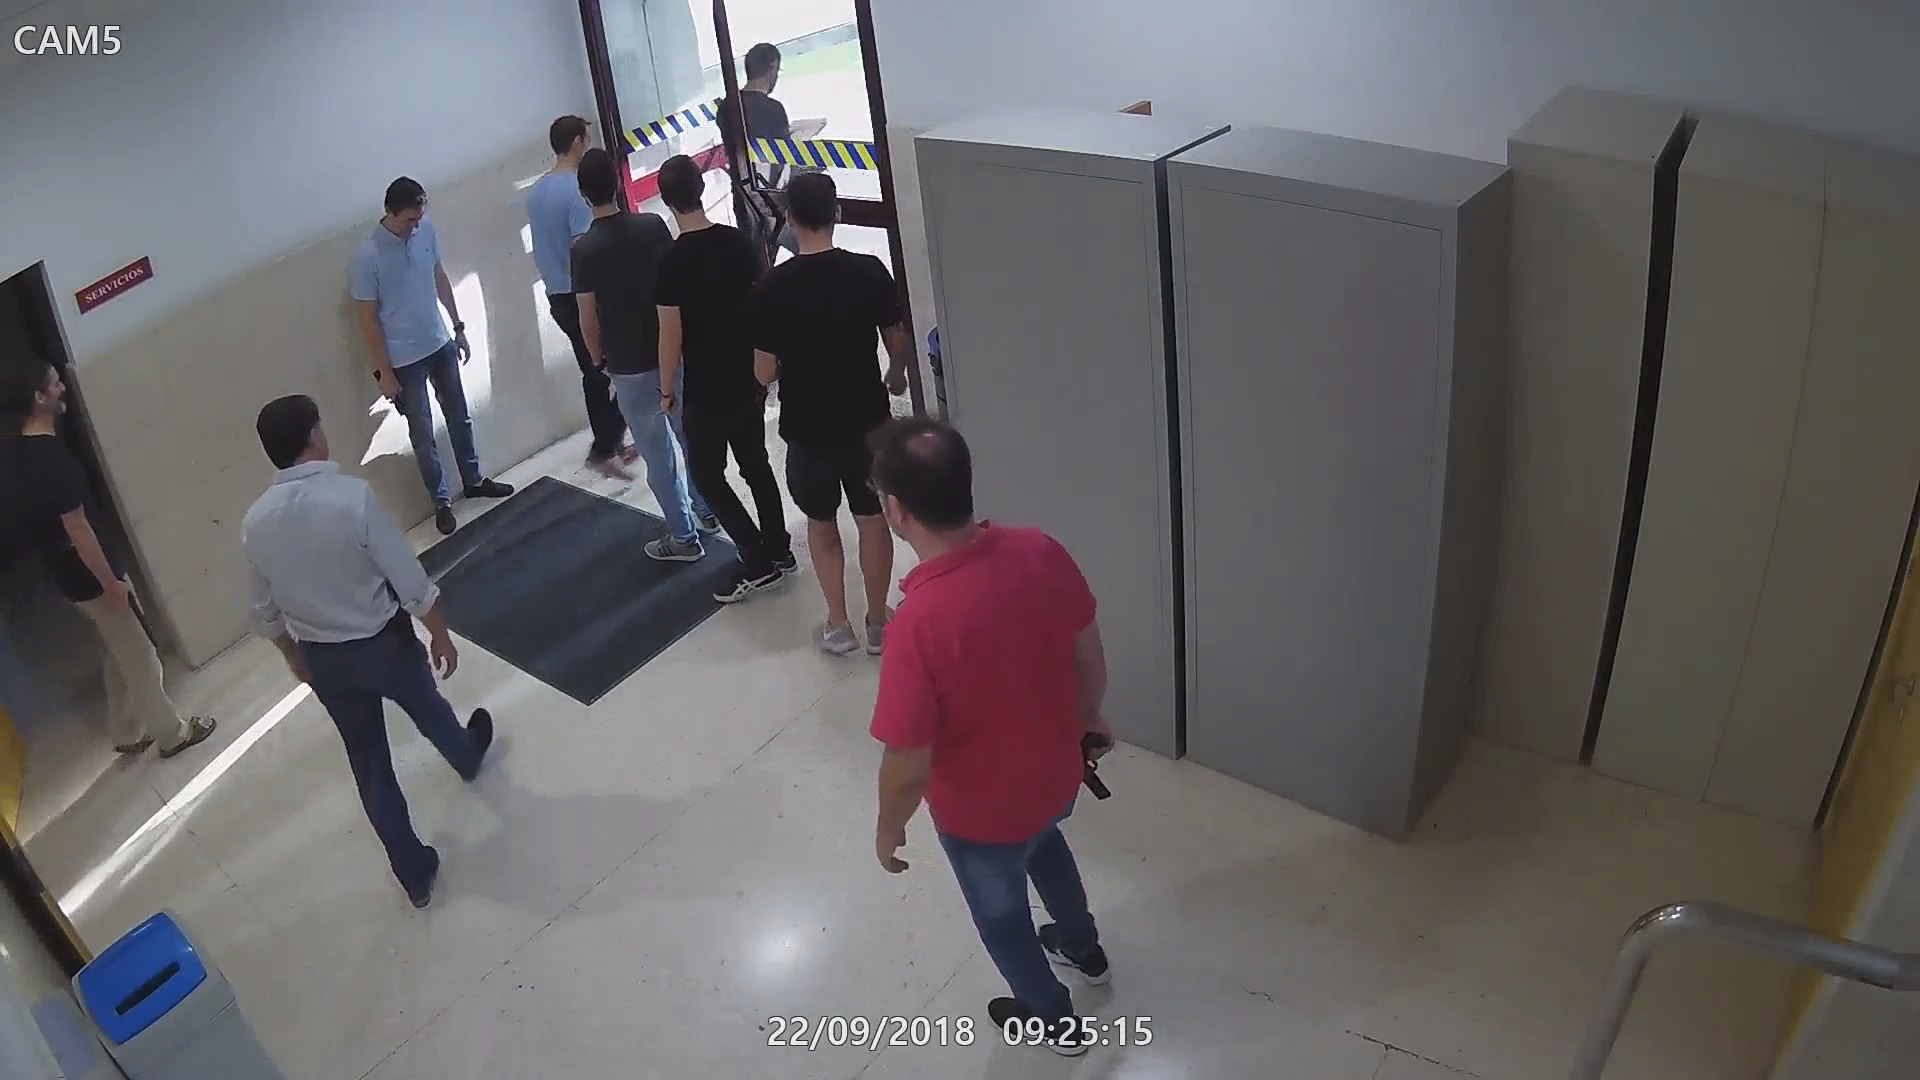Handgun: (1076, 729, 1120, 803), (392, 608, 423, 651)
Short_rifle: (103, 578, 158, 649)
